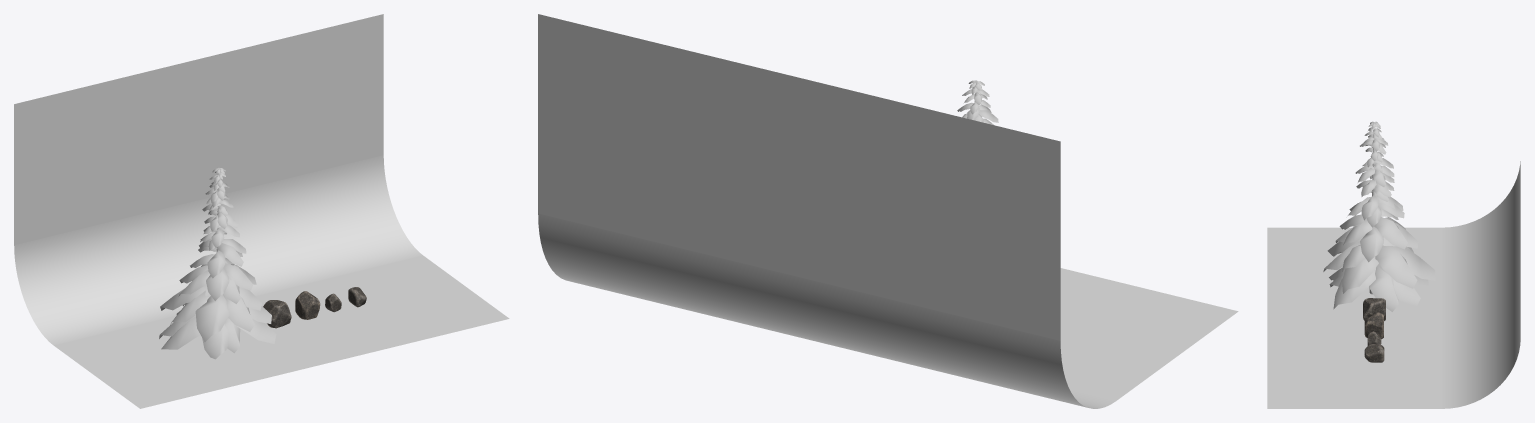
The model's file is RealisticGameNaturePack.fbx.
3 renders of one model, left to right at view 1: azimuth 30°, elevation 25°; view 2: azimuth 150°, elevation 25°; view 3: azimuth 270°, elevation 25°, orthographic. The views are drawn at different scales.
Visible parts, largest first — view 1: Stage, PineTree, Rock1, Rock3; view 2: Stage, PineTree; view 3: Stage, PineTree, Rock3, Rock1, Rock2.
Part boxes in pixels (x1,y1,x2,y2): Stage: [14, 14, 509, 408]; PineTree: [159, 167, 276, 359]; Rock1: [295, 291, 320, 319]; Rock3: [263, 300, 291, 328]; Stage: [538, 14, 1238, 408]; PineTree: [957, 80, 998, 124]; Stage: [1267, 161, 1520, 408]; PineTree: [1323, 121, 1435, 311]; Rock3: [1363, 298, 1385, 321]; Rock1: [1364, 312, 1383, 338]; Rock2: [1364, 344, 1384, 362].
Size of the model in its own units: 8000 by 4556 by 4728.
